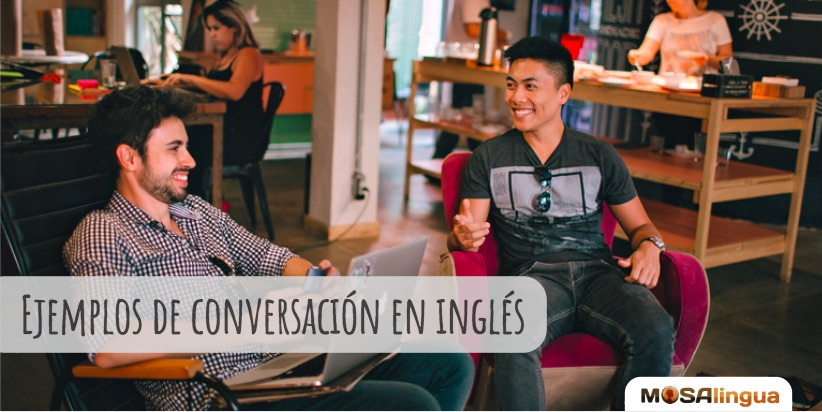person: (70, 92, 250, 254), (470, 39, 611, 198), (192, 6, 278, 99)
